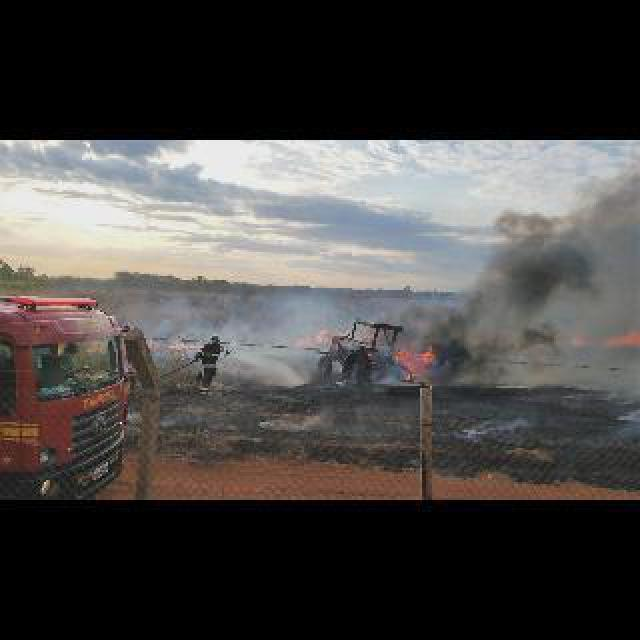fire: (401, 159, 637, 311), (122, 271, 318, 396), (128, 267, 390, 321)
smoke: (562, 324, 638, 354), (292, 324, 348, 350), (398, 346, 430, 378), (146, 336, 194, 356)
